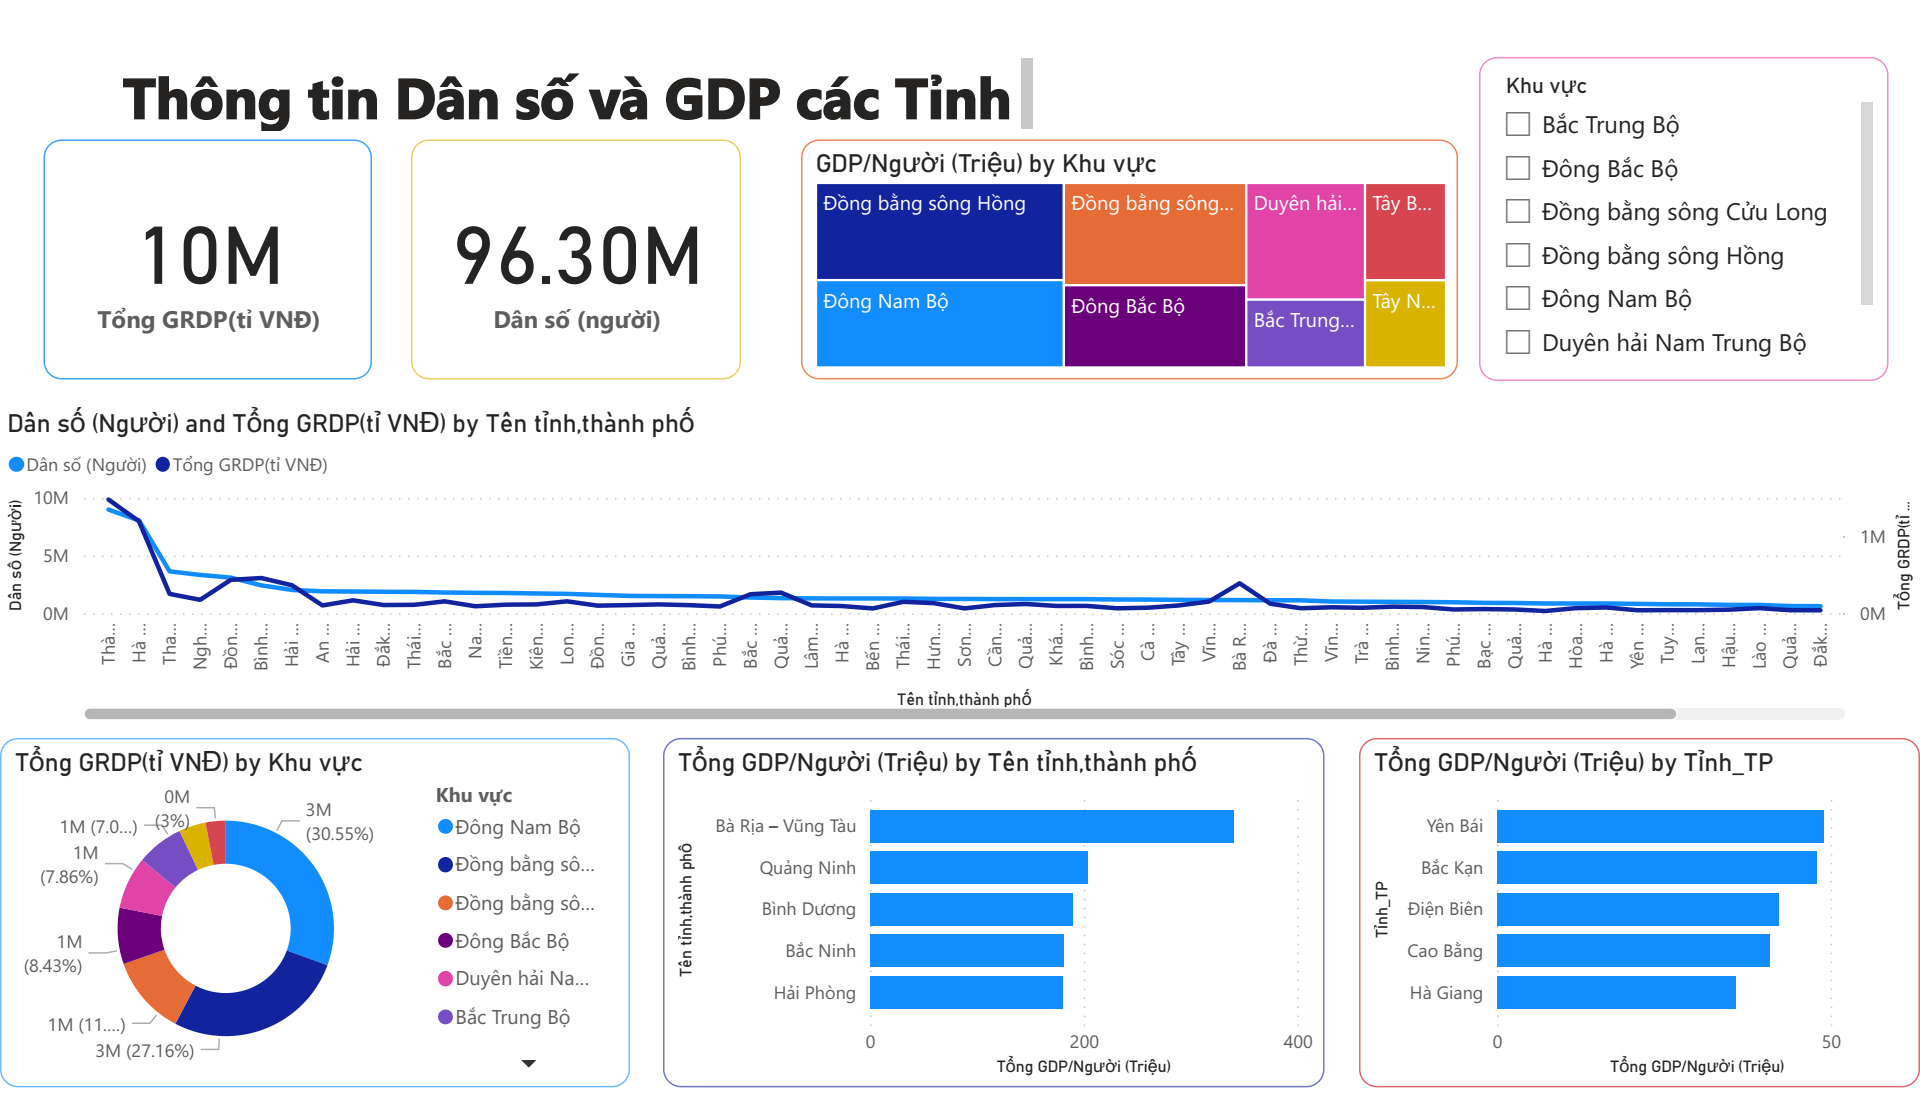

What the dashboard file says about the page in this screenshot:
{"tool":"powerbi","page":{"name":"Page 1","canvas":[1280,720],"ordinal":0},"visuals":[{"type":"textbox","box":[76.9,29.1,617.1,58.2],"z":0},{"type":"card","fields":{"Values":["Sum(Danh sách tỉnh thành.Dân số (người))"]},"box":[274.3,88.2,220.4,160],"z":1000},{"type":"card","fields":{"Values":["Sum(Danh sách các đơn vị hành chính Việt Nam theo Tổng sản phẩm trên địa bàn (GRDP).Tổng GRDP(tỉ VNĐ))"]},"box":[29.4,88.2,218.8,160],"z":2000},{"type":"lineChart","fields":{"Category":["Danh sách tỉnh thành.Tên tỉnh,thành phố"],"Y2":["Sum(Danh sách các đơn vị hành chính Việt Nam theo Tổng sản phẩm trên địa bàn (GRDP).Tổng GRDP(tỉ VNĐ))"],"Y":["Sum(Danh sách tỉnh thành.Dân số (người))"]},"box":[0,266.1,1280,213.9],"z":3000},{"type":"donutChart","title":"Tổng GRDP(tỉ VNĐ) by Khu vực","fields":{"Category":["Danh sách tỉnh thành.Khu vực"],"Y":["Sum(Danh sách các đơn vị hành chính Việt Nam theo Tổng sản phẩm trên địa bàn (GRDP).Tổng GRDP(tỉ VNĐ))"]},"box":[0,486.5,419.6,233.5],"z":4000},{"type":"barChart","fields":{"Category":["Danh sách tỉnh thành.Tên tỉnh,thành phố"],"Y":["Sum(Danh sách tỉnh thành.GDP/Người (Triệu))"]},"box":[442.4,486.5,440.8,233.5],"z":5000},{"type":"barChart","fields":{"Category":["Danh sách các đơn vị hành chính Việt Nam theo Tổng sản phẩm trên địa bàn (GRDP).Tỉnh_TP"],"Y":["Sum(Danh sách tỉnh thành.GDP/Người (Triệu))"]},"box":[906.1,486.5,373.9,233.5],"z":6000},{"type":"slicer","fields":{"Values":["Danh sách tỉnh thành.Khu vực"]},"box":[986.1,32.7,272.7,215.5],"z":7000},{"type":"treemap","title":"GDP/Người (Triệu) by Khu vực","fields":{"Group":["Danh sách tỉnh thành.Khu vực"],"Values":["Sum(Danh sách tỉnh thành.GDP/Người (Triệu))"]},"box":[533.9,88.2,437.6,160],"z":8000}]}

Visuals, with their boxes in screenshot pixels (x1, y1, x2, y2), scaled from the page's 1280x720 canvas onto the 1920x1095 screenshot:
textbox: locate(115, 44, 1041, 133)
card - Sum(Danh sách tỉnh thành.Dân số (người)): locate(411, 134, 742, 377)
card - Sum(Danh sách các đơn vị hành chính Việt Nam theo Tổng sản phẩm trên địa bàn (GRDP).Tổng GRDP(tỉ VNĐ)): locate(44, 134, 372, 377)
lineChart - Danh sách tỉnh thành.Tên tỉnh,thành phố x Sum(Danh sách các đơn vị hành chính Việt Nam theo Tổng sản phẩm trên địa bàn (GRDP).Tổng GRDP(tỉ VNĐ)): locate(0, 405, 1919, 730)
"Tổng GRDP(tỉ VNĐ) by Khu vực" donutChart: locate(0, 740, 629, 1094)
barChart - Danh sách tỉnh thành.Tên tỉnh,thành phố x Sum(Danh sách tỉnh thành.GDP/Người (Triệu)): locate(664, 740, 1325, 1094)
barChart - Danh sách các đơn vị hành chính Việt Nam theo Tổng sản phẩm trên địa bàn (GRDP).Tỉnh_TP x Sum(Danh sách tỉnh thành.GDP/Người (Triệu)): locate(1359, 740, 1919, 1094)
slicer - Danh sách tỉnh thành.Khu vực: locate(1479, 50, 1888, 377)
"GDP/Người (Triệu) by Khu vực" treemap: locate(801, 134, 1457, 377)
